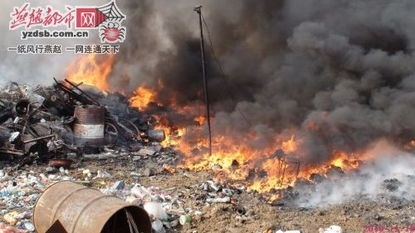fire: (148, 91, 369, 198), (63, 53, 119, 93)
